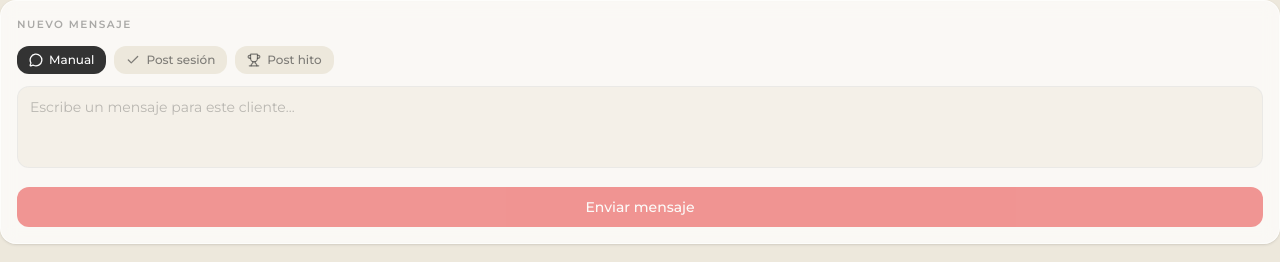
Test case: MessageComposerCard › enables the send button once a non-empty message is typed
Type "Hola" into the text box with placeholder "Escribe un mensaje para este cliente..." at [640, 127], box [17,86,1263,168]
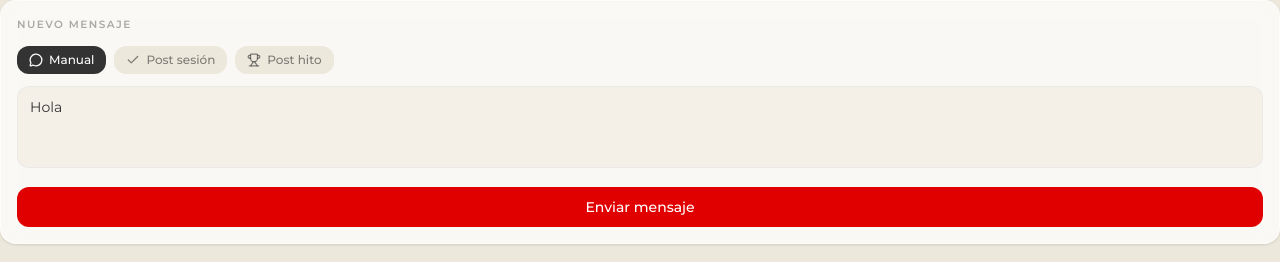
Expected: the button "Enviar mensaje" is enabled, [17,187,1263,227]
